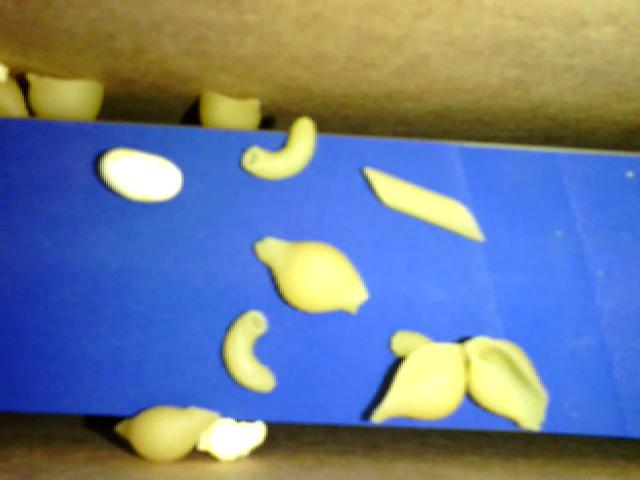elbow: (240, 115, 316, 181), (220, 311, 277, 393), (392, 328, 437, 359)
penne: (362, 165, 483, 243)
shell: (254, 235, 371, 318), (371, 341, 469, 425), (466, 333, 549, 430), (115, 405, 218, 465), (26, 71, 104, 120), (197, 90, 261, 129)
